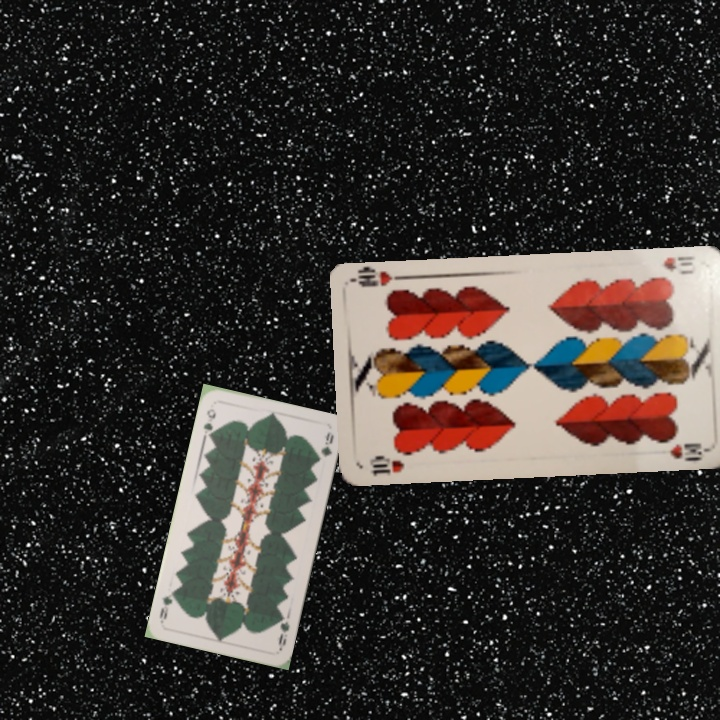G9: (274, 610, 292, 652), (199, 404, 218, 442)
H10: (365, 452, 406, 478), (659, 252, 698, 277)
